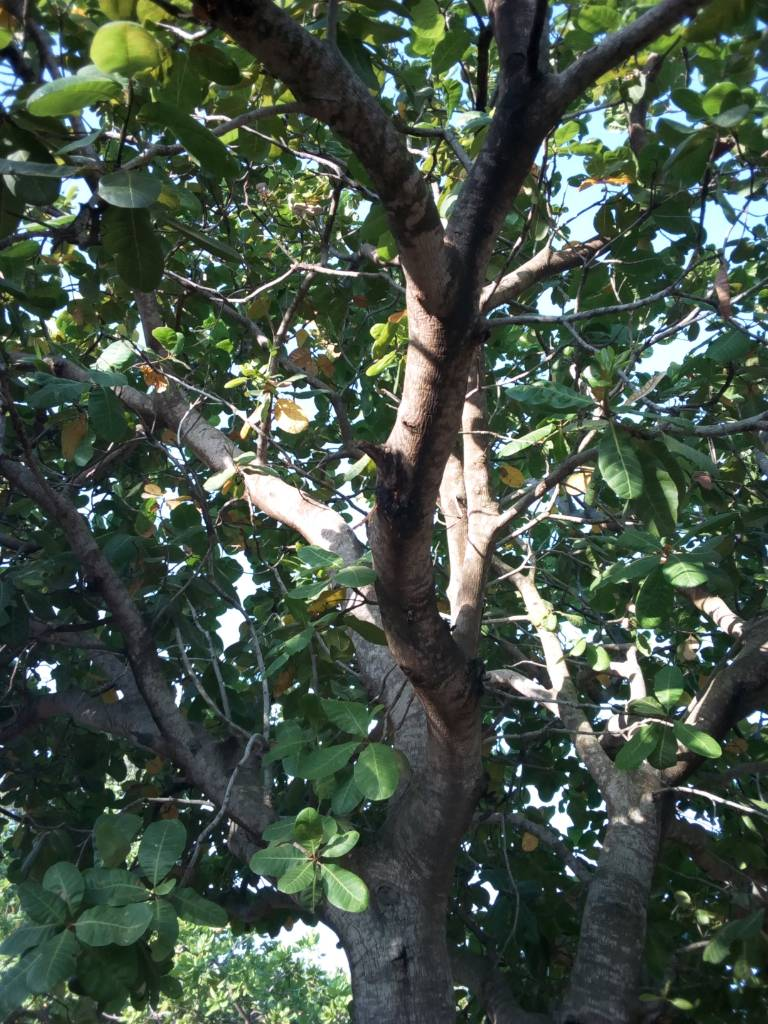Gommose: (369, 450, 418, 527)
